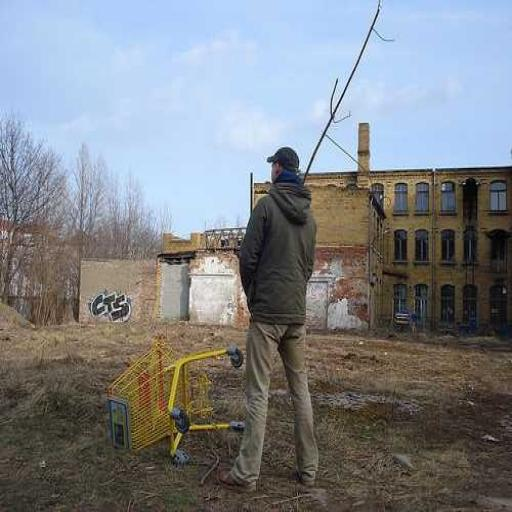shopping_cart: (105, 333, 247, 472)
